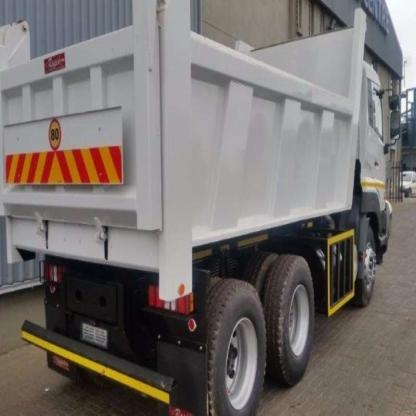dump_truck: (10, 6, 396, 414)
